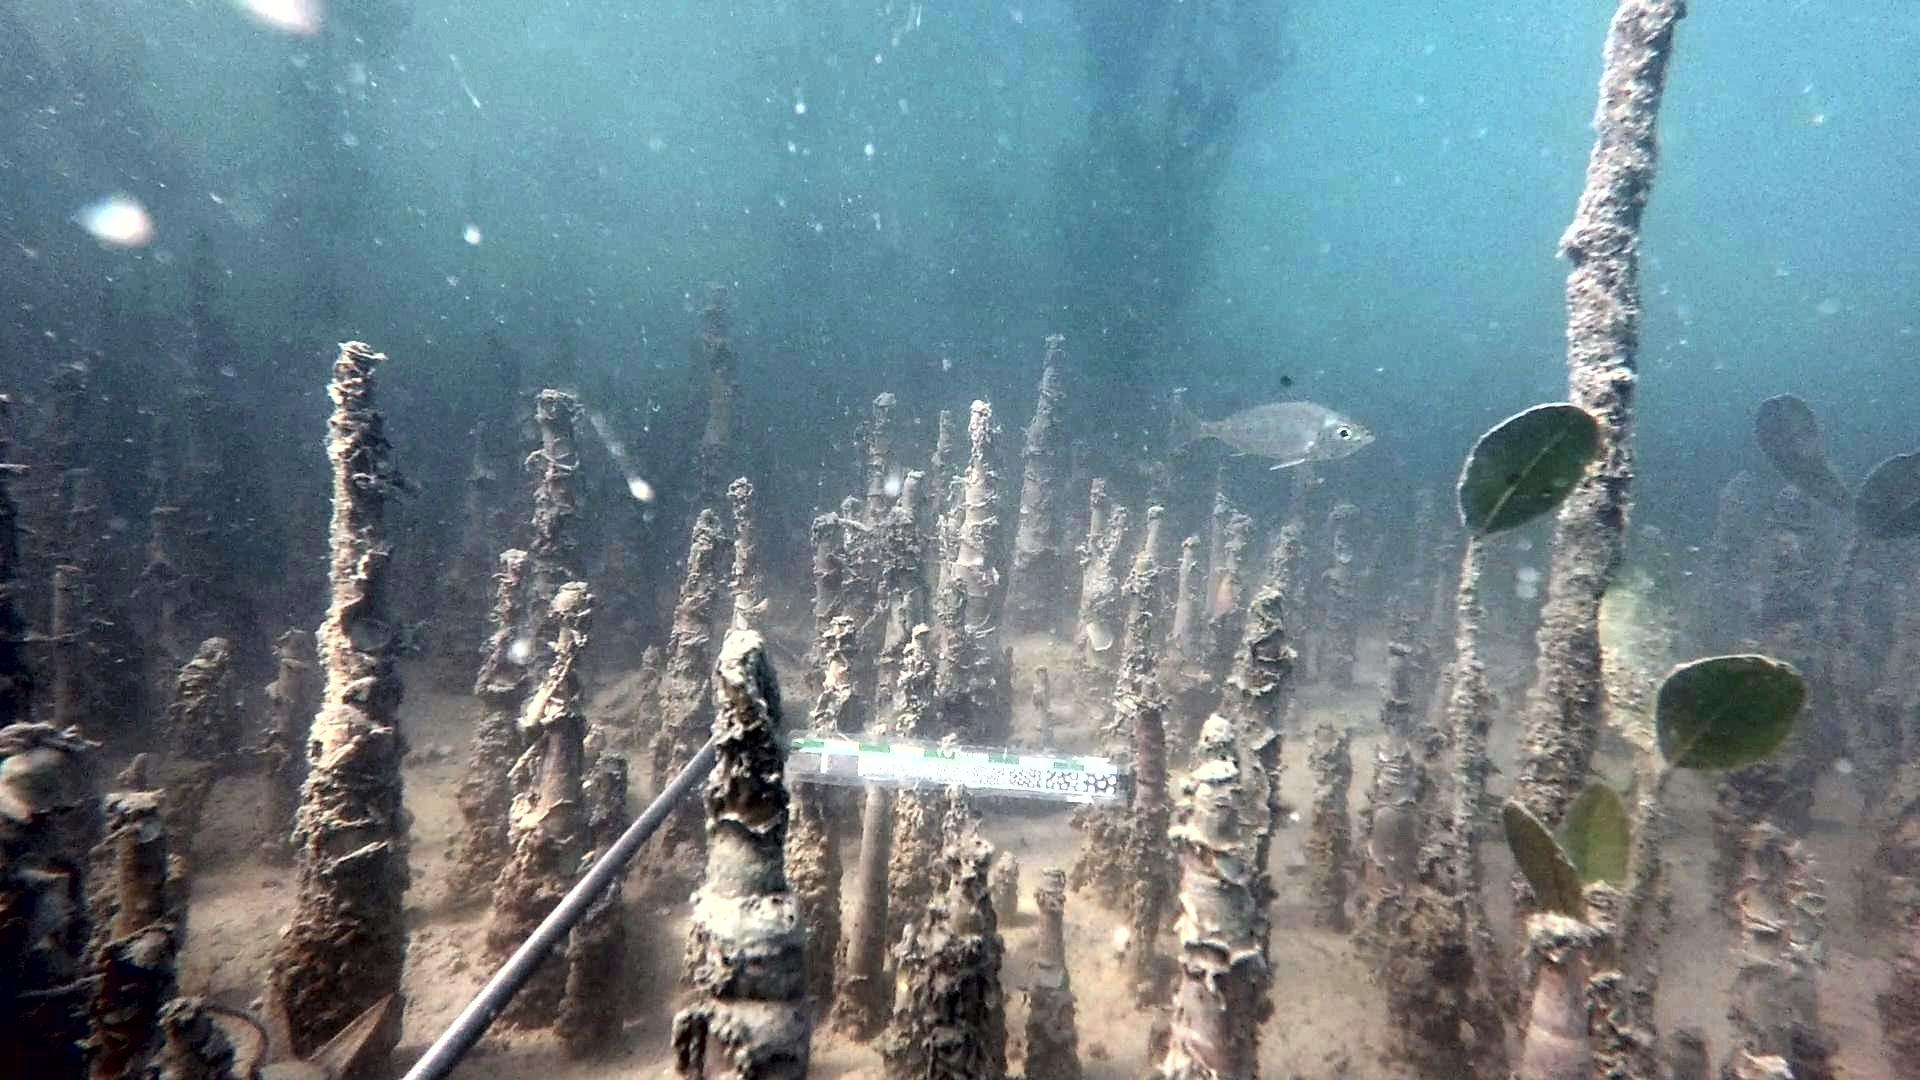gerres: (1162, 375, 1379, 472)
